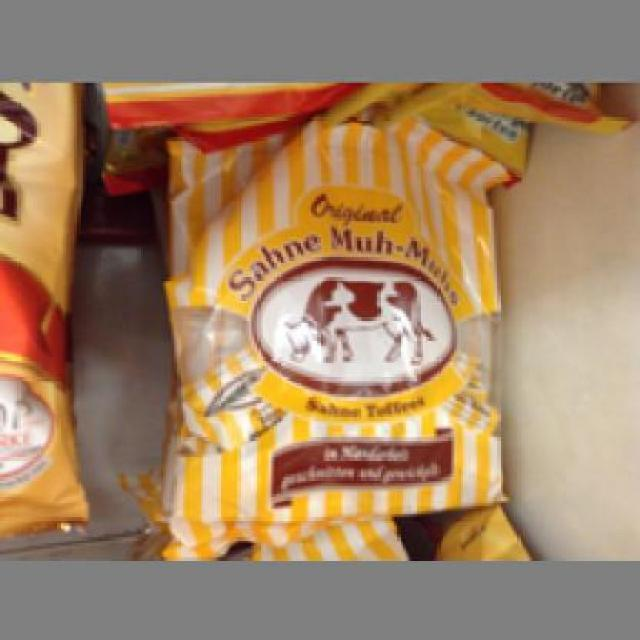Candy: (163, 140, 506, 546)
